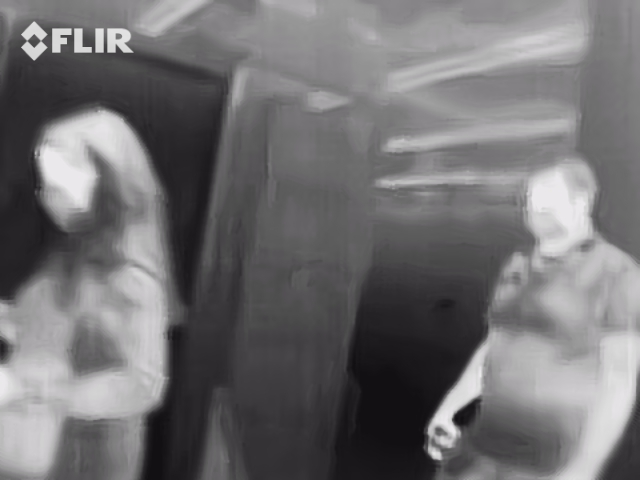head: (35, 109, 152, 239), (523, 155, 595, 244)
